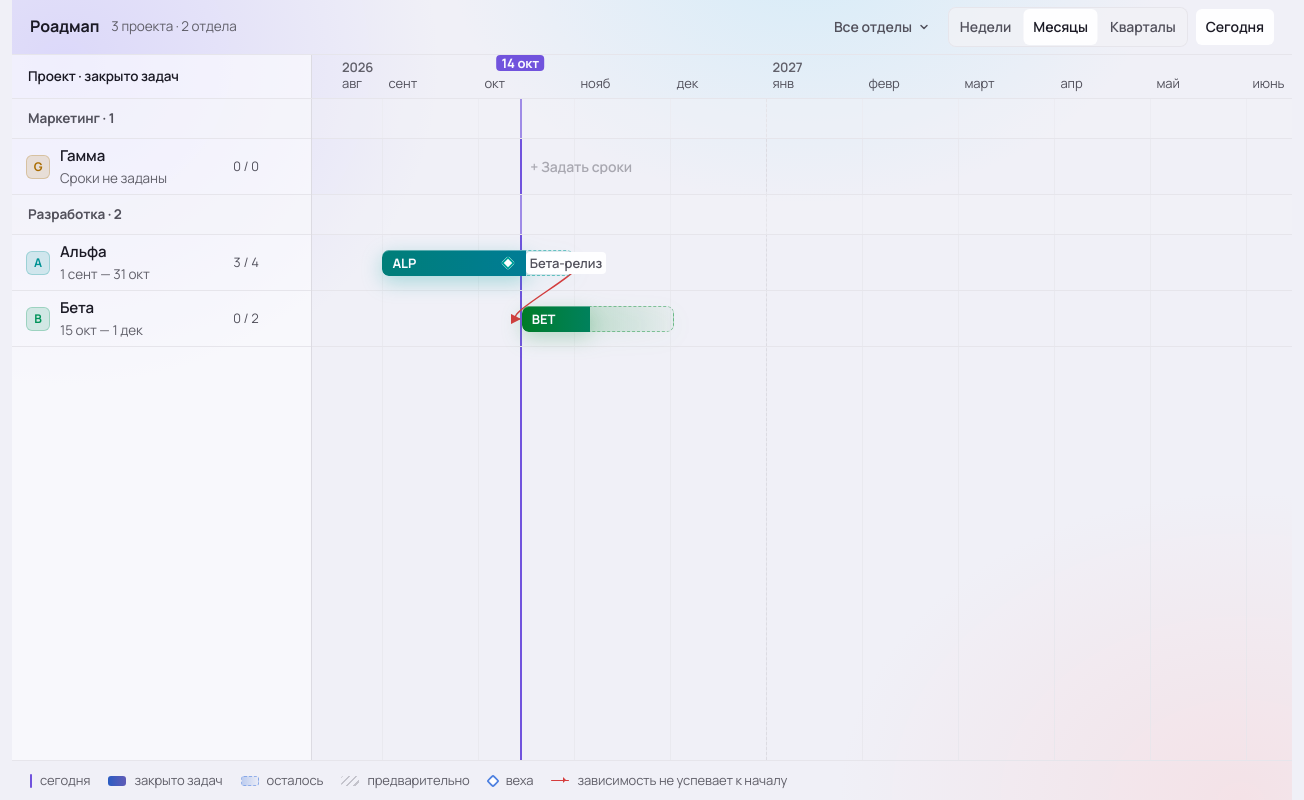
Test: фильтр отдела скрывает другие строки и связи, сброс восстанавливает их
Step 1. Click the button "Все отделы" → x=882, y=27, box [824,9,940,45]
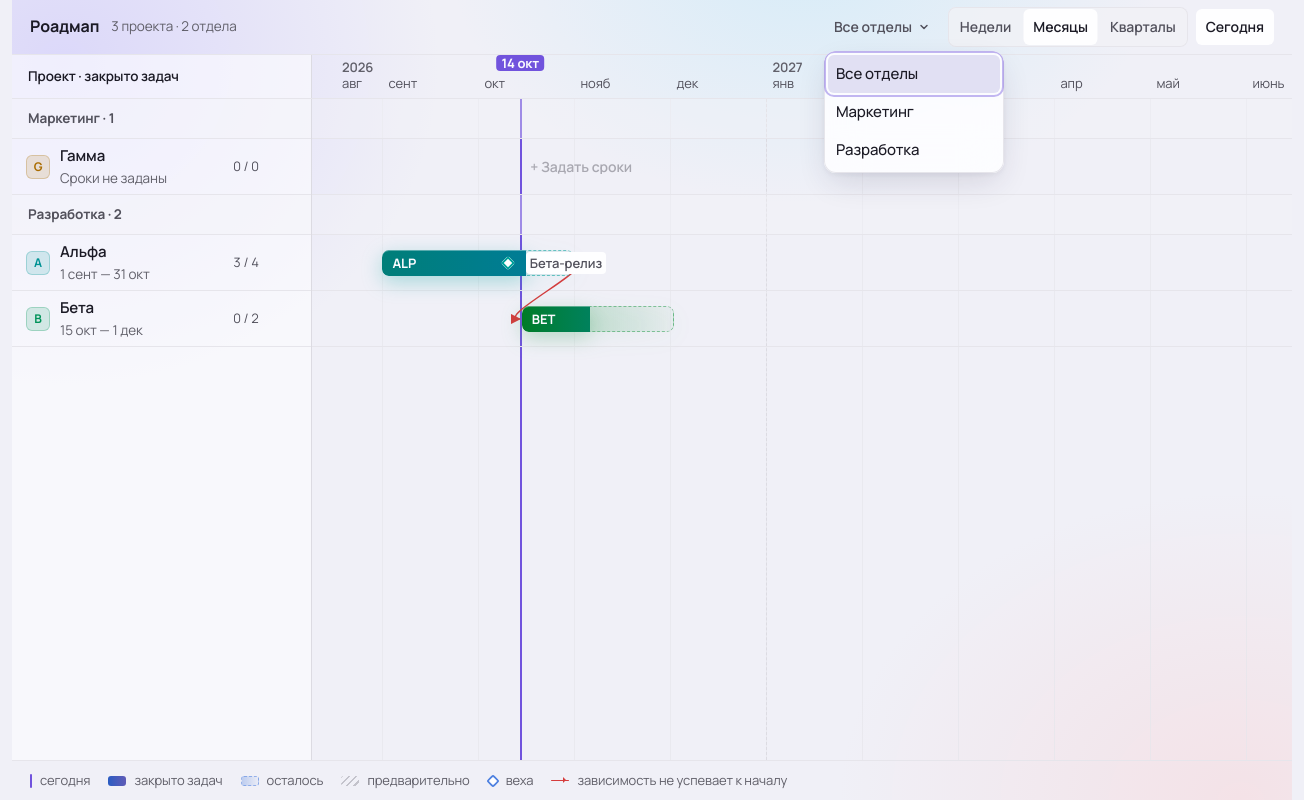
Step 2. Click the menu item "Маркетинг" → x=914, y=112, box [828,93,1000,131]
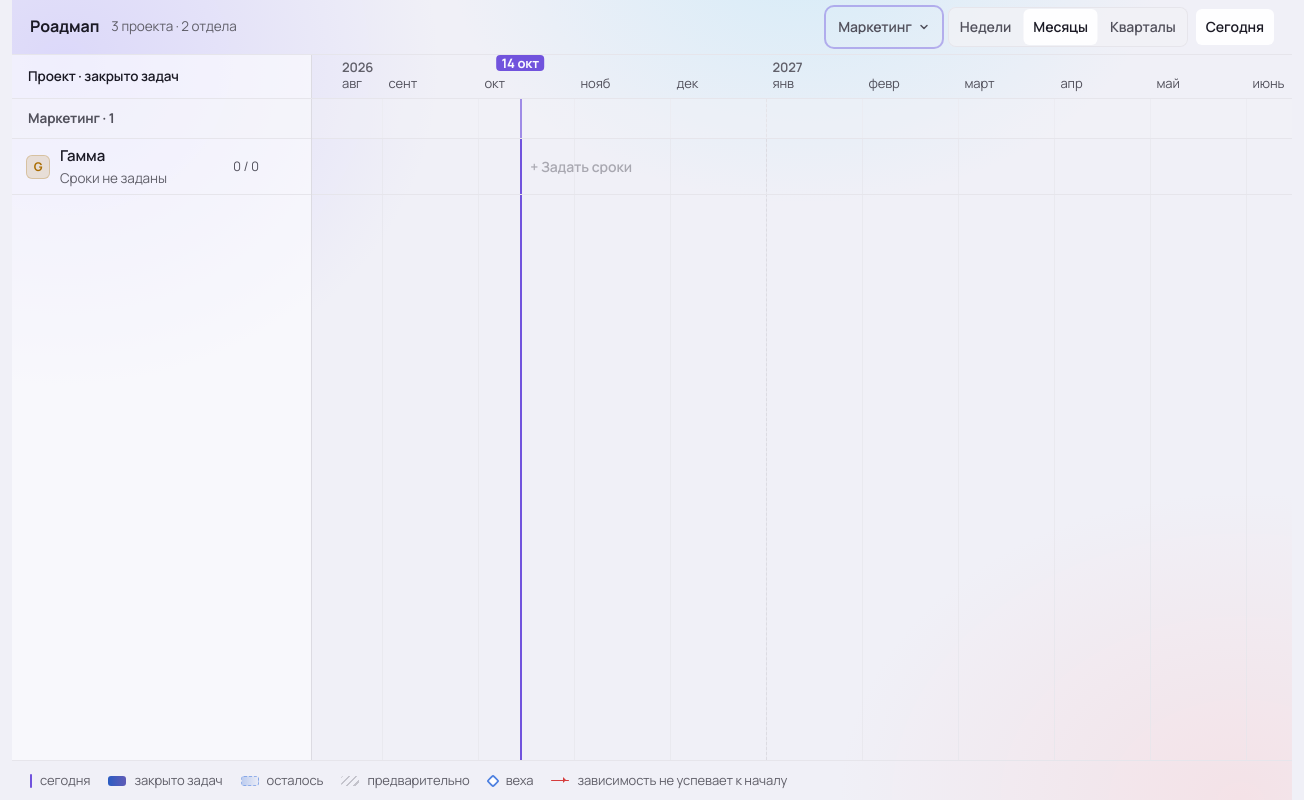
Check: the text "Маркетинг · 1" is shown, box [12,99,311,139]
Check: the text "Разработка · 2" is gone
Step 3. Click the button "Маркетинг" → x=884, y=27, box [828,9,940,45]
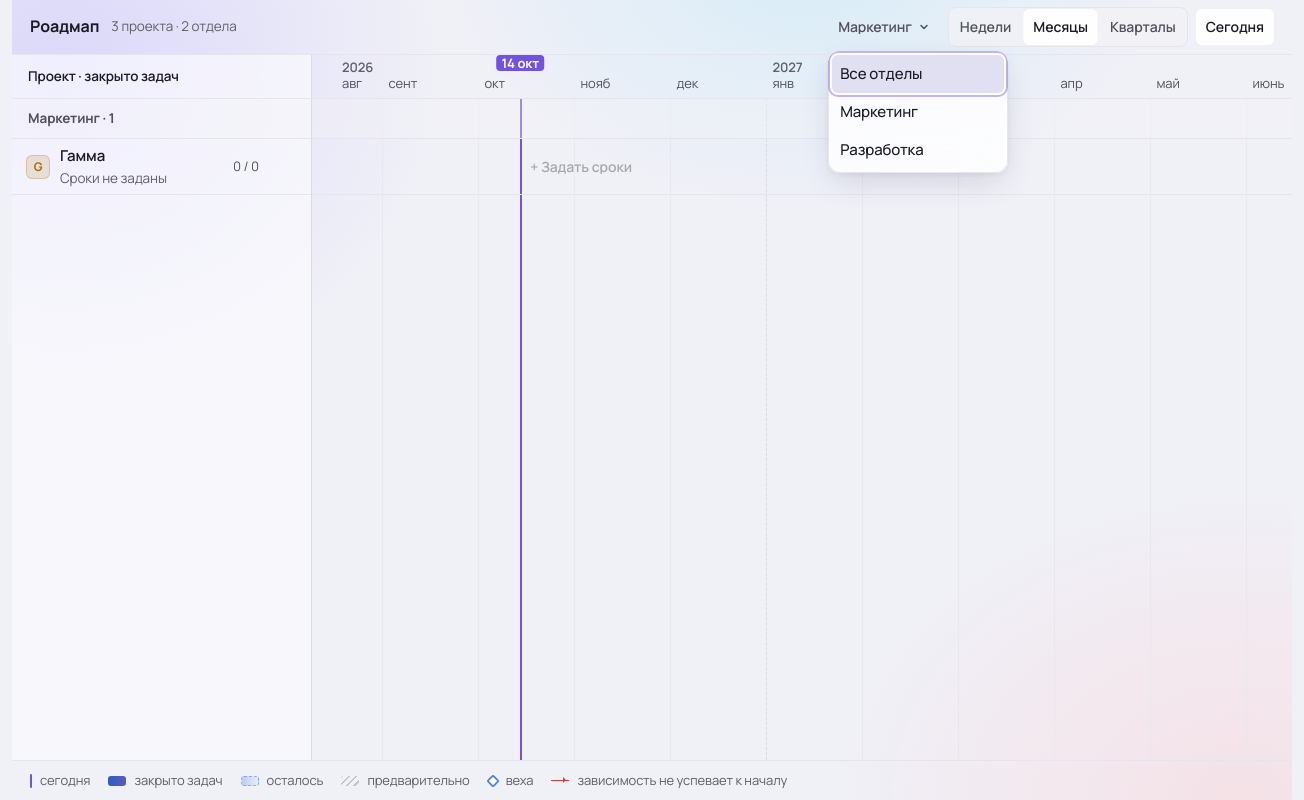
Step 4. Click the menu item "Все отделы" → x=918, y=74, box [832,55,1004,93]
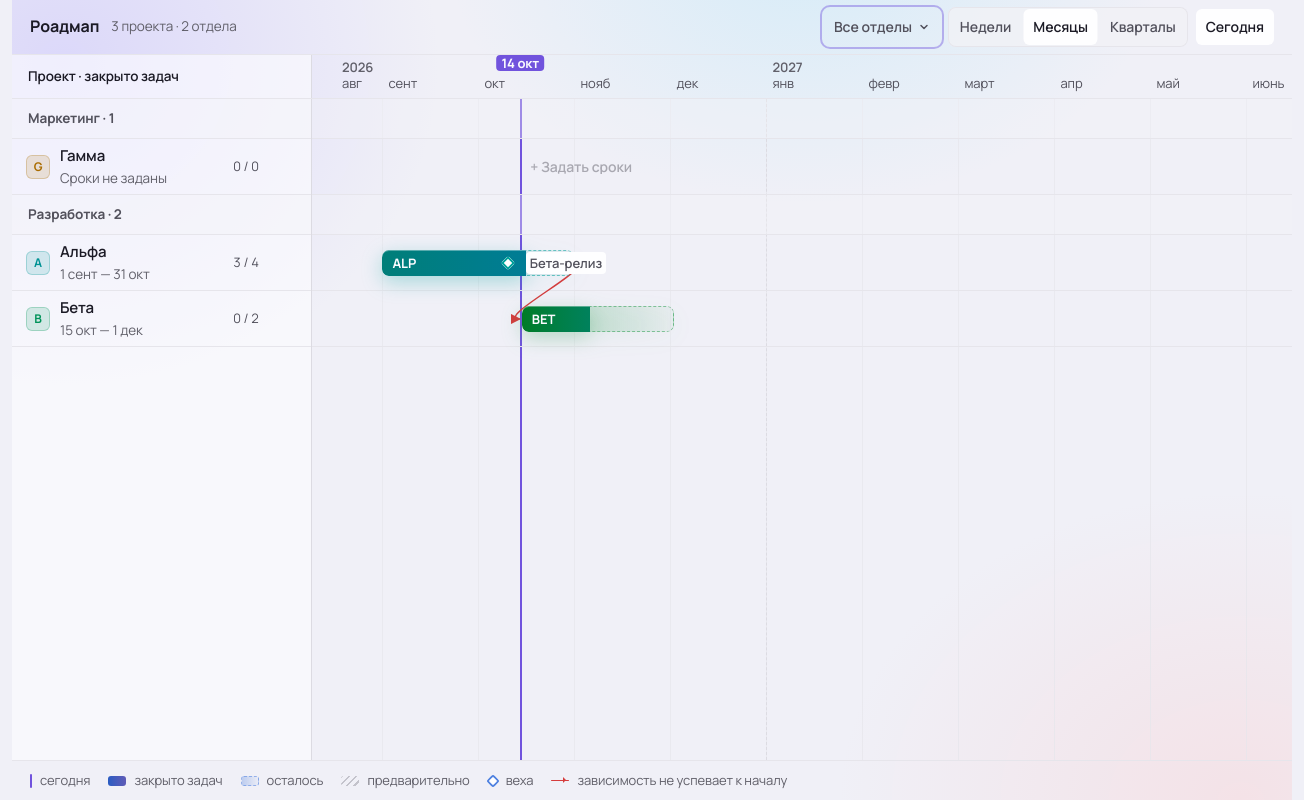
Check: the text "Разработка · 2" is shown, box [12,195,311,235]
